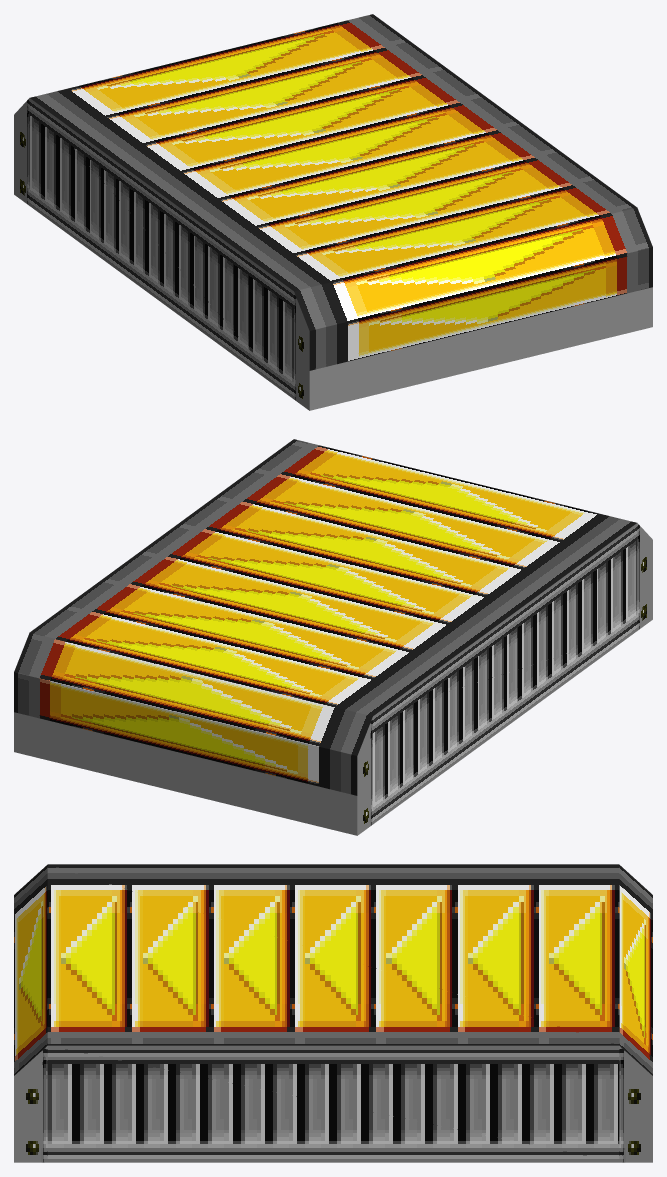
Rendered from ct_mecha_obj04s.glb.
3 views of the same model, one above another, from view 1: azimuth 30°, elevation 25°; view 2: azimuth 150°, elevation 25°; view 3: azimuth 270°, elevation 25° (orthographic). The views are drawn at different scales.
Parts seen in each view (by area): view 1: ct_mecha_obj04s; view 2: ct_mecha_obj04s; view 3: ct_mecha_obj04s.
Part boxes in pixels (box(x1,y1,x2,y2)): ct_mecha_obj04s: box(14, 14, 652, 410); ct_mecha_obj04s: box(14, 439, 652, 835); ct_mecha_obj04s: box(14, 864, 652, 1162).
Bounding box in the file's own units: 7.03 × 2.11 × 10.48.
3 materials, 3 textured.
